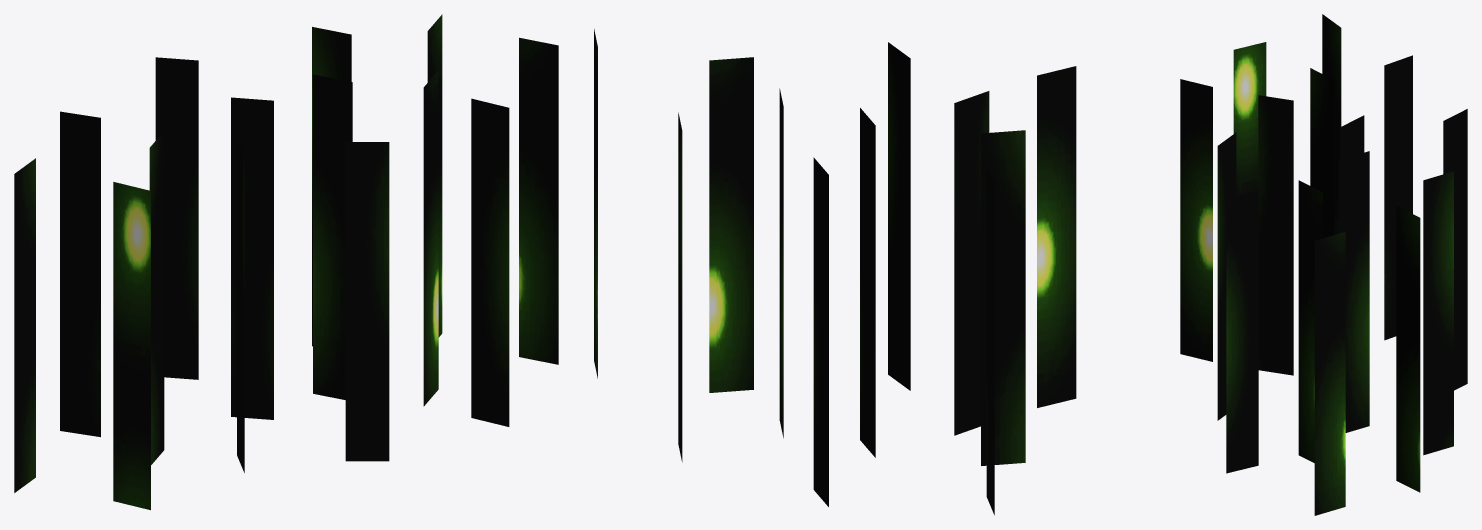
File: 0302_guladuo_light01.glb
The picture shows the model from 3 angles, left to right: view 1: azimuth 30°, elevation 25°; view 2: azimuth 150°, elevation 25°; view 3: azimuth 270°, elevation 25°; orthographic projection. The views are drawn at different scales.
Bounding box in the file's own units: 2.2 × 1.24 × 1.18.
Materials: 1 (1 with a texture image).
